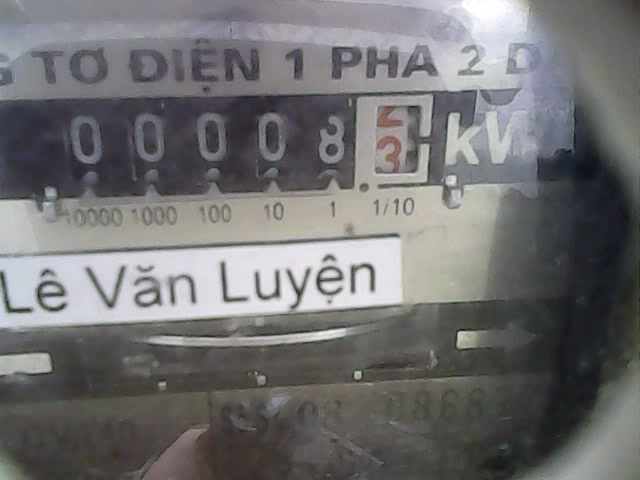phy_plate: (49, 89, 442, 203)
